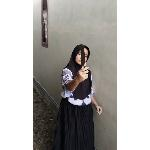Pisau: (76, 42, 90, 74)
